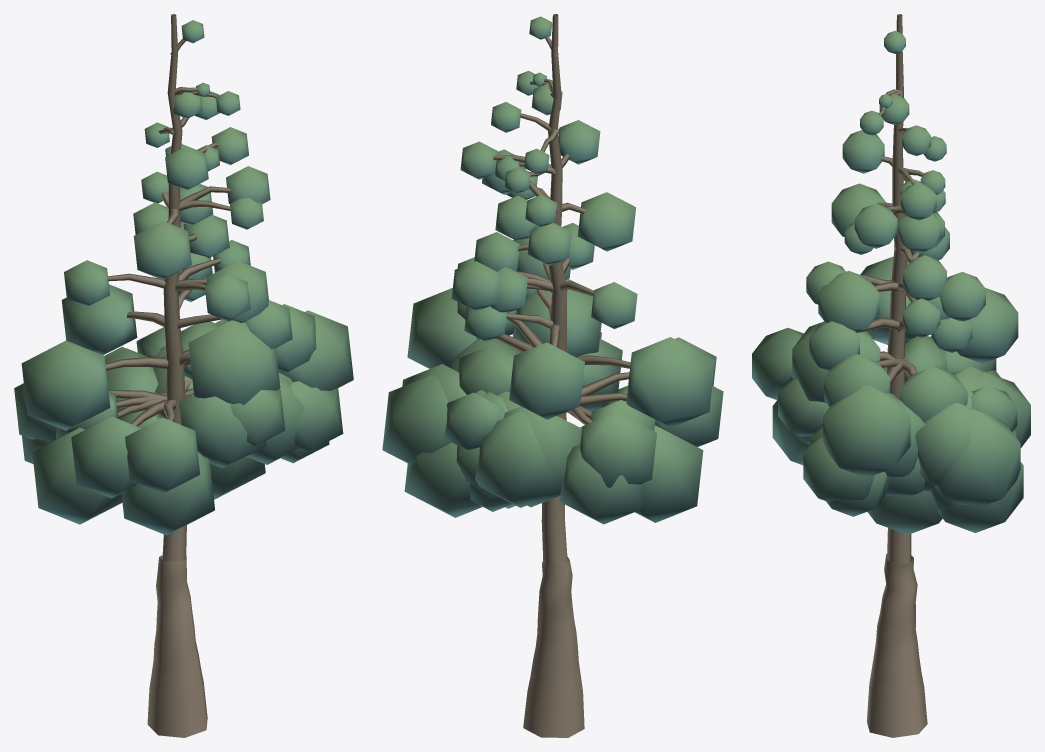
Rendered from seed_conifer_d.glb.
3 views of the same model, side by side, from view 1: azimuth 30°, elevation 25°; view 2: azimuth 150°, elevation 25°; view 3: azimuth 270°, elevation 25° (orthographic).
Parts seen in each view (by area): view 1: seed_conifer_d_LOD0; view 2: seed_conifer_d_LOD0; view 3: seed_conifer_d_LOD0.
Part boxes in pixels (<box>): seed_conifer_d_LOD0: <box>14,14,353,737</box>; seed_conifer_d_LOD0: <box>382,14,723,737</box>; seed_conifer_d_LOD0: <box>752,14,1030,737</box>.
Size of what is drawn, in the model's own units: 4.93 by 10.87 by 3.87.
